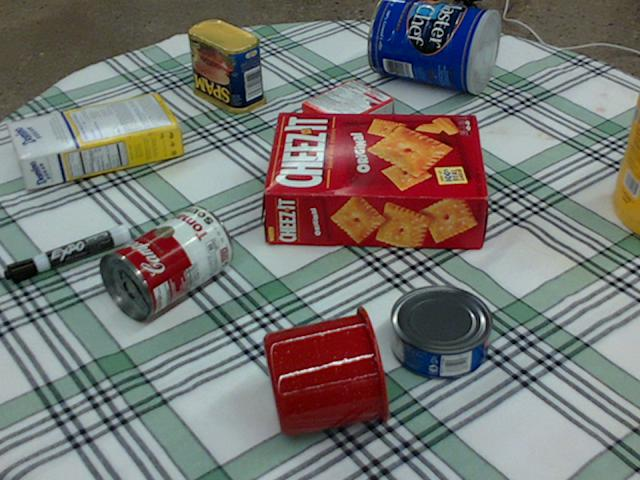cracker_box: (262, 109, 486, 246)
gelatin_box: (300, 76, 393, 143)
large_marker: (2, 224, 128, 283)
master_chef_can: (367, 0, 498, 92)
mug: (260, 302, 391, 438)
mustard_bottle: (612, 85, 639, 234)
potted_meat_can: (187, 19, 265, 112)
sugar_box: (5, 93, 182, 188)
tomato_soup_can: (98, 204, 232, 320)
tuna_fish_can: (391, 284, 494, 379)
